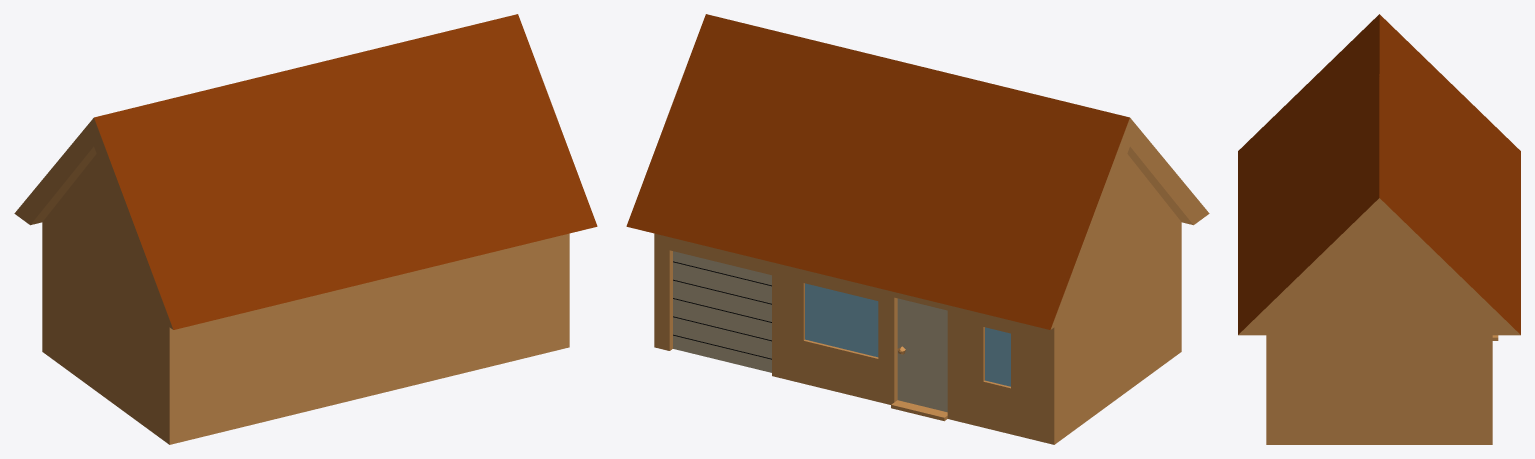
The model's file is House.fbx.
The picture shows the model from 3 angles, left to right: view 1: azimuth 30°, elevation 25°; view 2: azimuth 150°, elevation 25°; view 3: azimuth 270°, elevation 25°; orthographic projection. The views are drawn at different scales.
Parts seen in each view (by area): view 1: Cube; view 2: Cube; view 3: Cube.
Part boxes in pixels (x1,y1,x2,y2): Cube: (14,14,597,444); Cube: (626,14,1209,444); Cube: (1238,14,1520,444).
Size of the model in its own units: 1538 by 984 by 1000.
